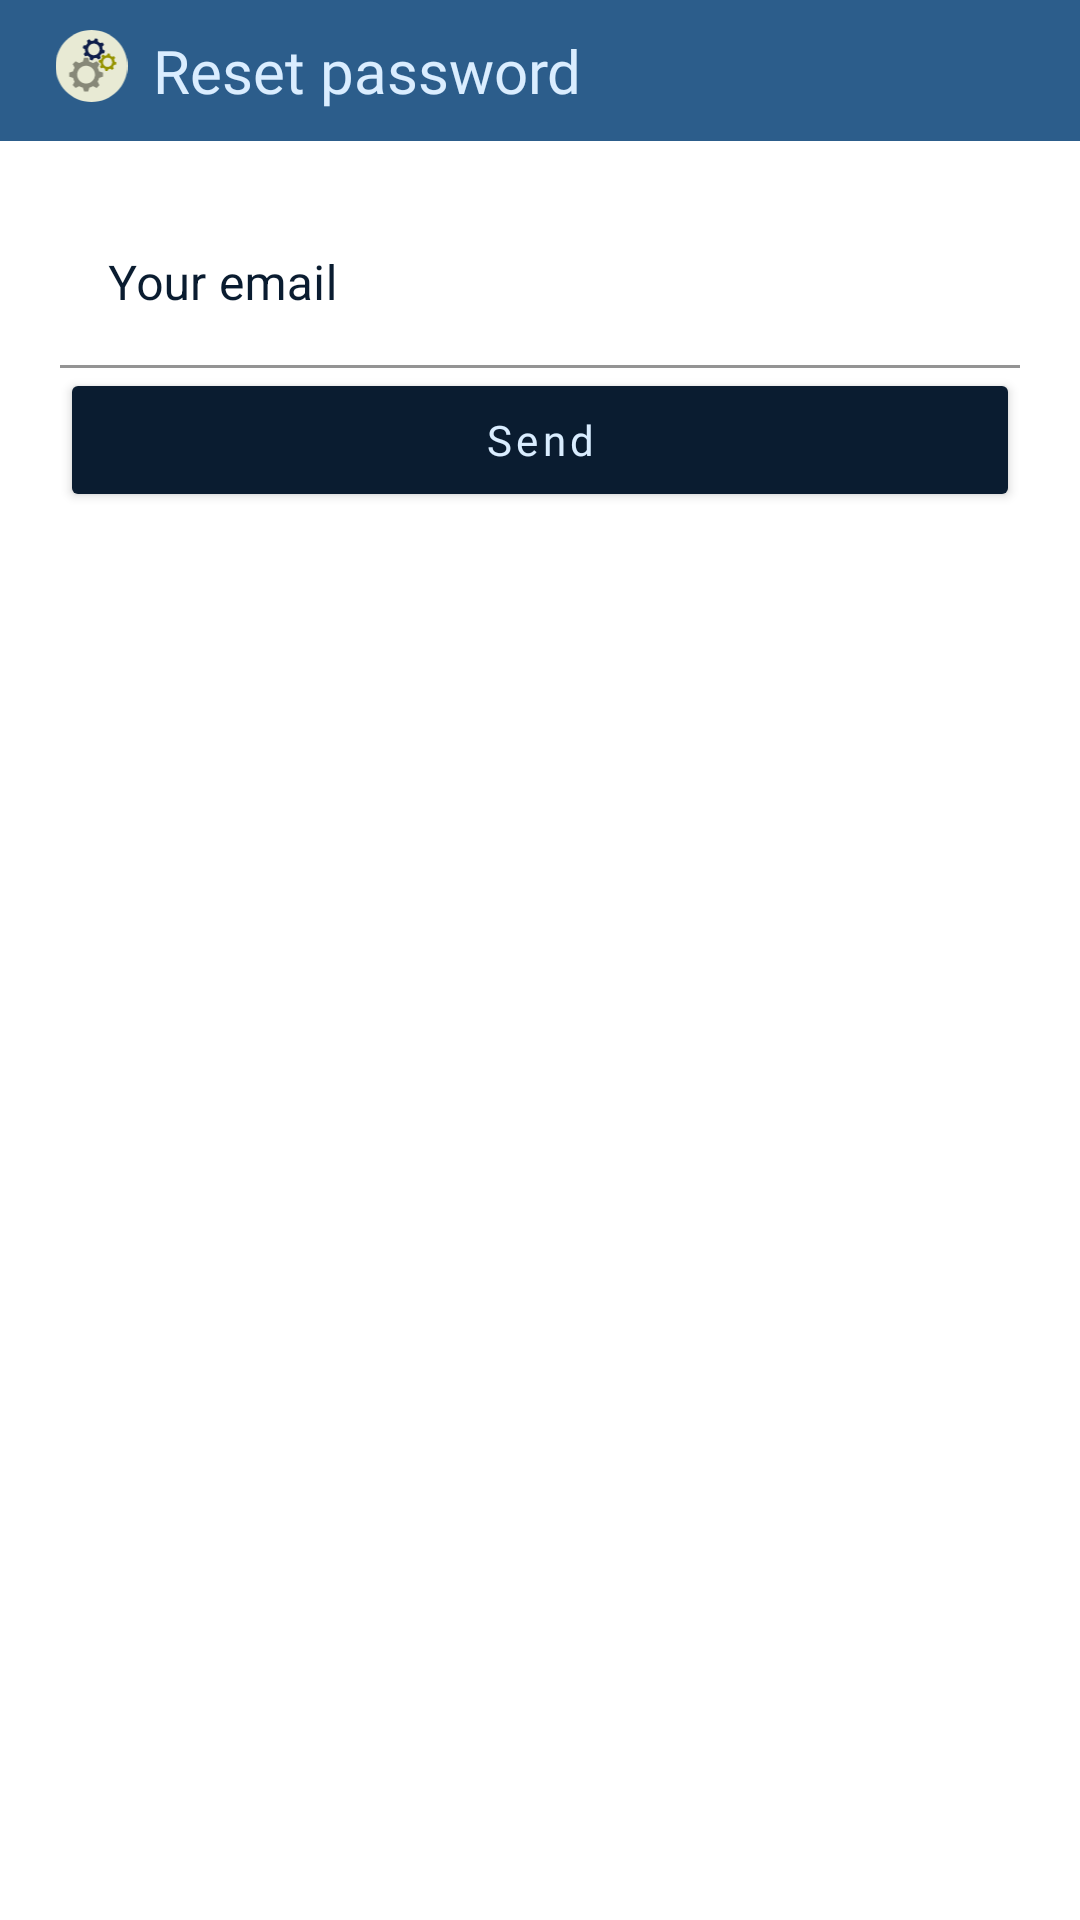

Icons on this 1080x1920 Android screen, each with its box as {"left": x1, "top": y1, "right": x2, "bottom": y2}:
settings: {"left": 56, "top": 30, "right": 128, "bottom": 102}
